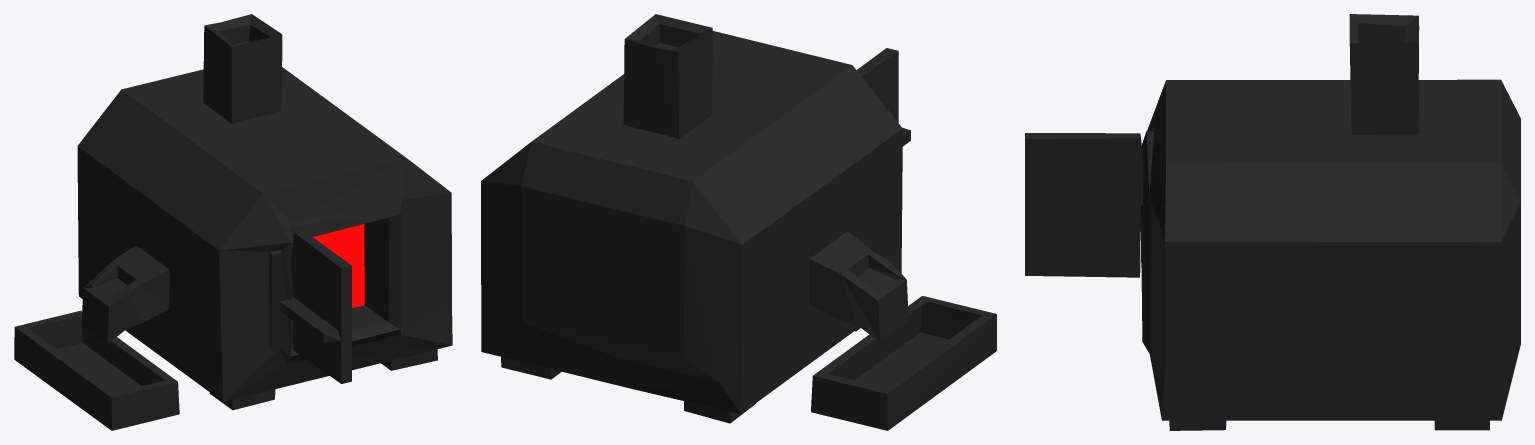
The model's file is forge.glb.
3 renders of one model, left to right at view 1: azimuth 30°, elevation 25°; view 2: azimuth 150°, elevation 25°; view 3: azimuth 270°, elevation 25°, orthographic. The views are drawn at different scales.
Parts seen in each view (by area): view 1: Mesh1.001; view 2: Mesh1.001; view 3: Mesh1.001.
Part boxes in pixels (<box>): Mesh1.001: <box>14,14,452,430</box>; Mesh1.001: <box>481,14,996,430</box>; Mesh1.001: <box>1025,14,1520,430</box>.
Size of the model in its own units: 1.71 by 1.44 by 1.89.
